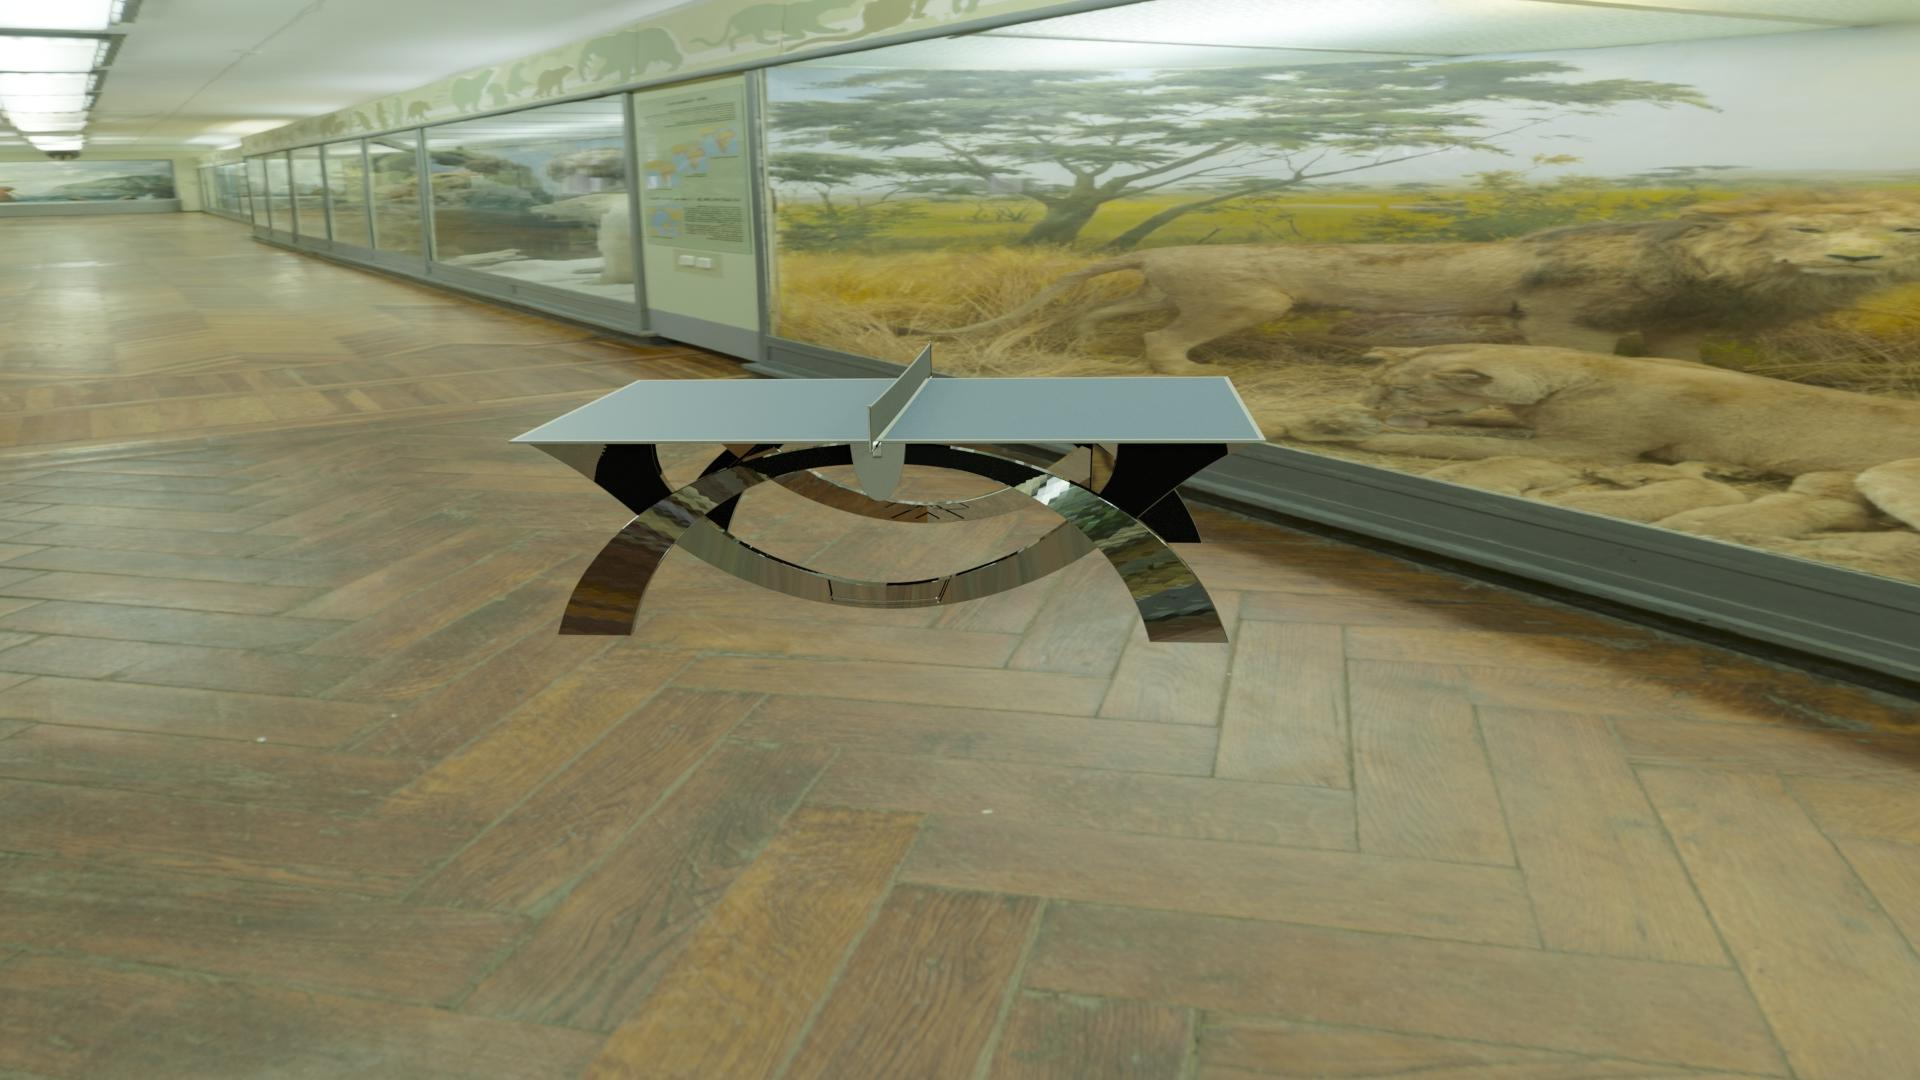table: (516, 377, 1259, 440)
